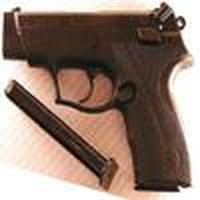gun: (3, 9, 193, 197)
